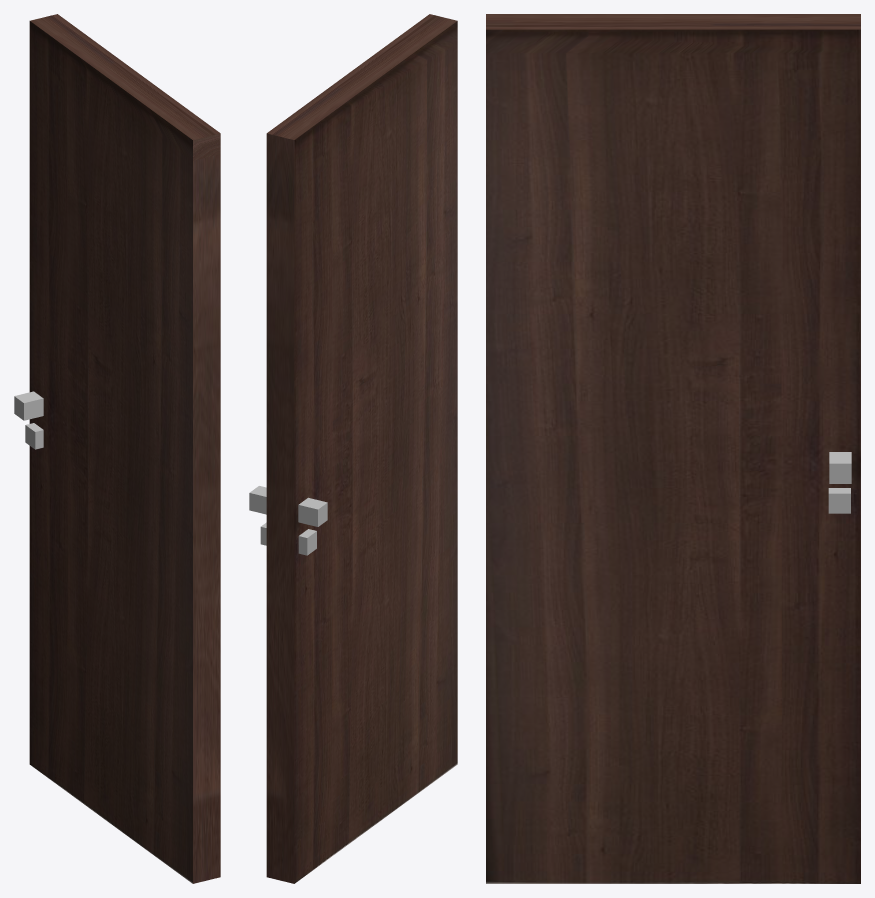
Rendered from deurv3.fbx.
3 renders of one model, left to right at view 1: azimuth 30°, elevation 25°; view 2: azimuth 150°, elevation 25°; view 3: azimuth 270°, elevation 25°, orthographic. The views are drawn at different scales.
Parts seen in each view (by area): view 1: deur; view 2: deur; view 3: deur.
Boxes of the visible parts, bbox=[...] form: deur: bbox=[14, 14, 220, 883]; deur: bbox=[249, 14, 457, 883]; deur: bbox=[486, 14, 860, 883].
Size of the model in its own units: 70.6 by 731 by 290.
